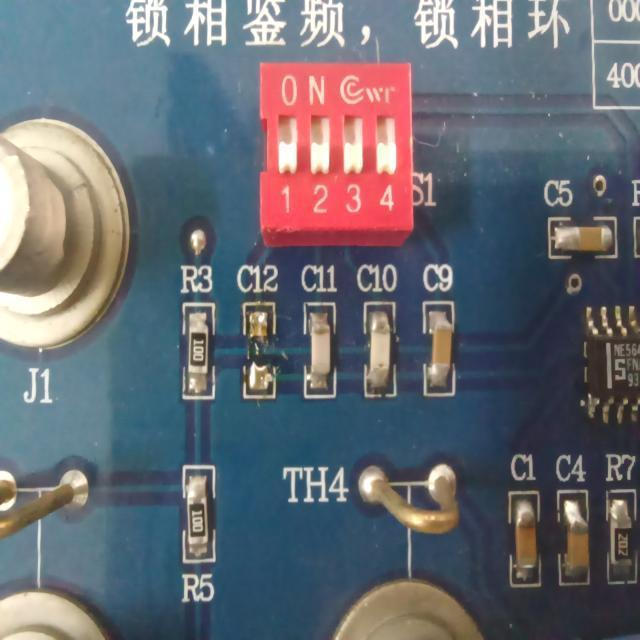Missing component: (233, 262, 285, 404)
